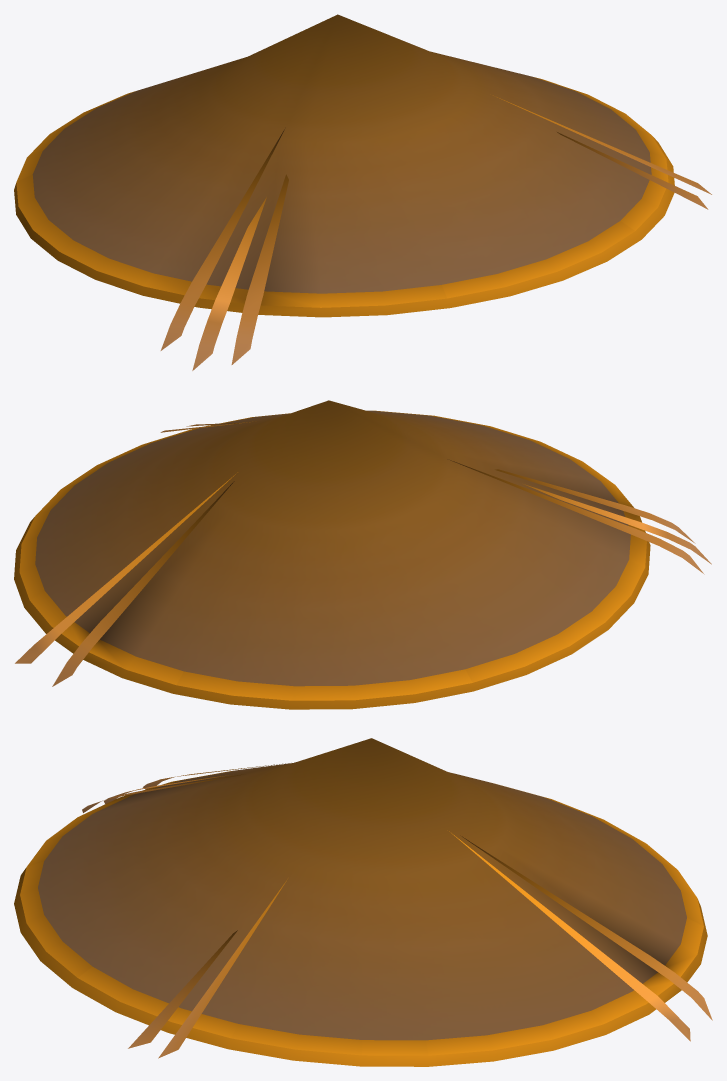
File: Cap_Cane_Cone_Hat.gltf
3 renders of one model, top to bottom at view 1: azimuth 30°, elevation 25°; view 2: azimuth 150°, elevation 25°; view 3: azimuth 270°, elevation 25°, orthographic. The views are drawn at different scales.
Parts seen in each view (by area): view 1: Cap_Cane_Cone_Hat; view 2: Cap_Cane_Cone_Hat; view 3: Cap_Cane_Cone_Hat.
Boxes of the visible parts, box(x1,y1,x2,y2) form: Cap_Cane_Cone_Hat: box(14, 14, 711, 370); Cap_Cane_Cone_Hat: box(14, 400, 711, 709); Cap_Cane_Cone_Hat: box(14, 738, 712, 1066).
Size of the model in its own units: 1.25 by 0.4365 by 1.26.
Materials: 2 (2 with a texture image).
